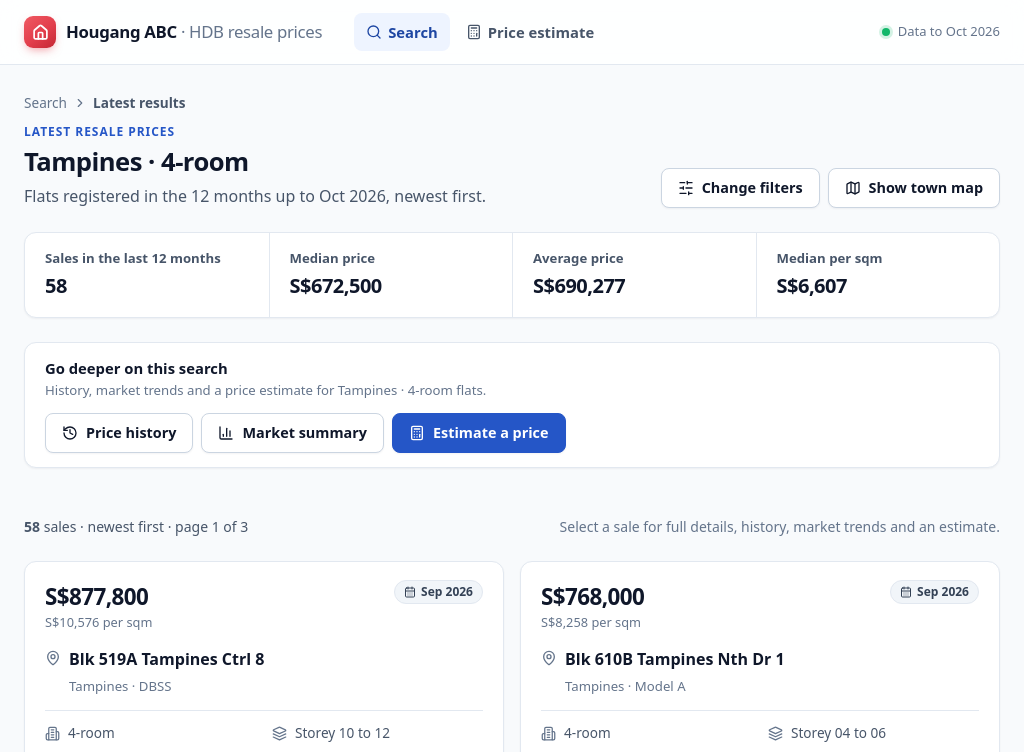
Test: S5 / S6 prediction (UC-4.5, UC-4.6, UC-4.7) › from S2 it pre-fills from the search filters, not from an earlier property
Click the button "Estimate a price".
click(479, 433)  # box [392,413,566,453]
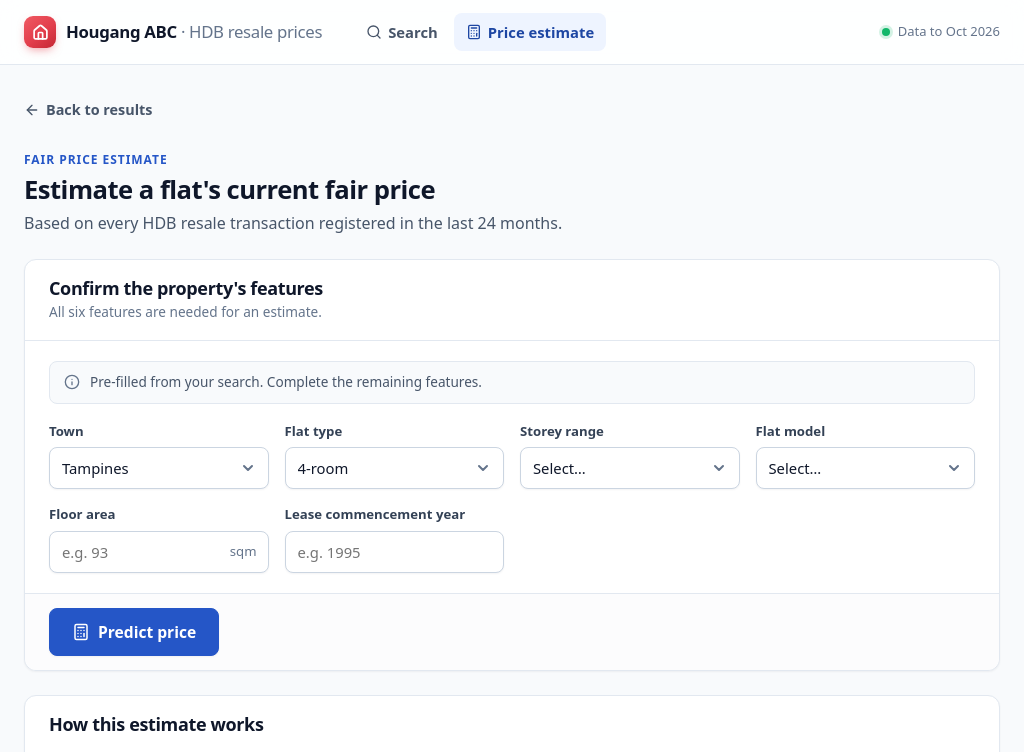
expect the text "Pre-filled from your search. Complete the remaining features." is shown: met, box [90,372,482,393]
expect the dropdown labelled "Town" shows "Tampines": met, box [49,448,268,490]
expect the dropdown labelled "Flat type" shows "4-room": met, box [284,448,504,490]
